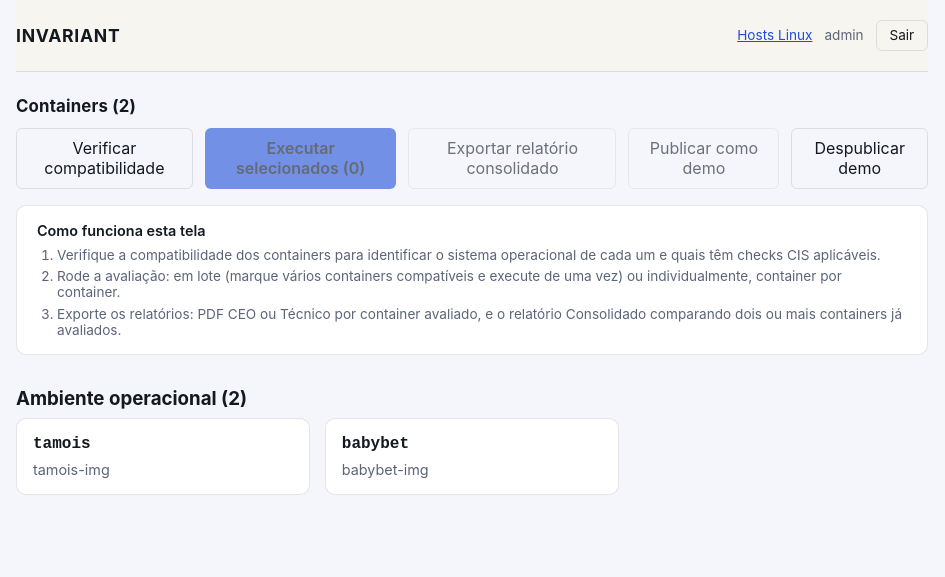
it: Containers -- botão de exportar consolidado › habilita quando o lote executado teve 2 ou mais containers
The image size is (945, 577).
What coordinates should you click on to do the following:
click the button "Verificar compatibilidade"
I would click on:
 (104, 158)
Its box is top-left (16, 128), bottom-right (193, 189).
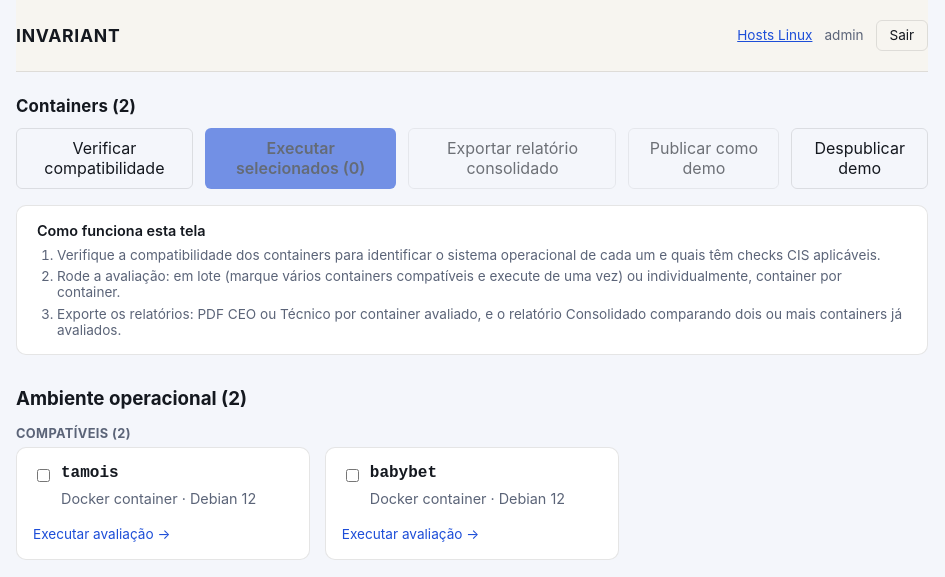
What coordinates should you click on to do the following:
click the checkbox next to "tamois"
I would click on:
 (44, 475)
Its box is top-left (37, 469), bottom-right (50, 482).
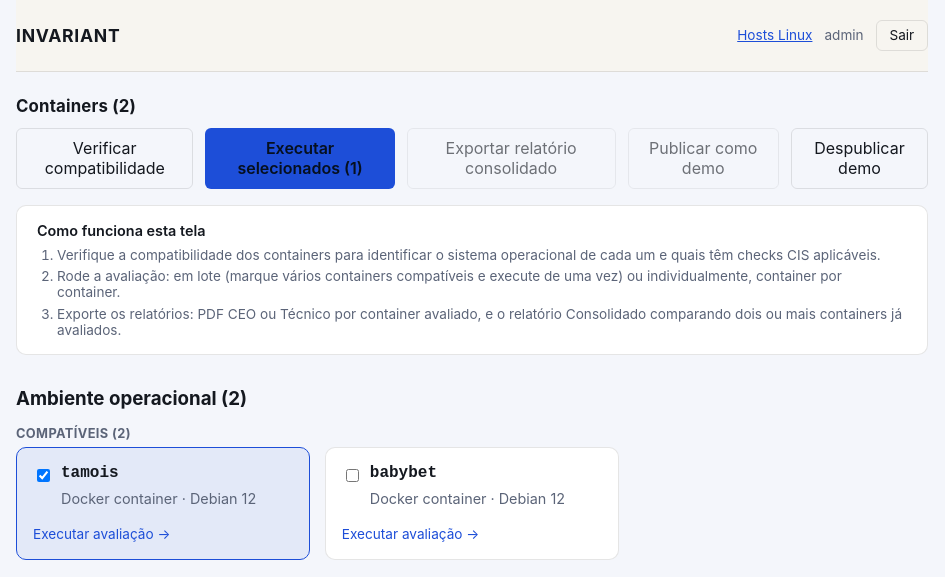
What coordinates should you click on to do the following:
click the checkbox next to "babybet"
I would click on:
 (352, 475)
Its box is top-left (346, 469), bottom-right (359, 482).
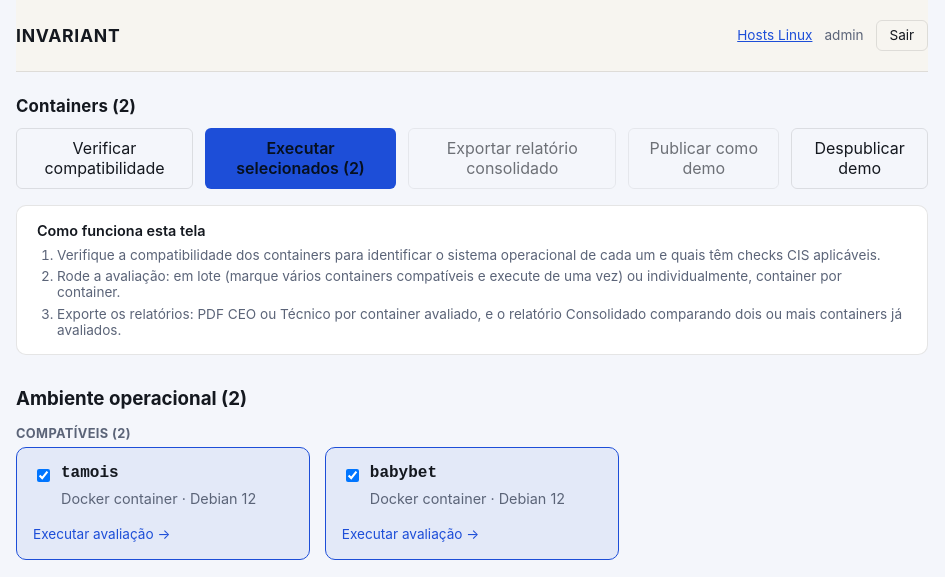
What coordinates should you click on to do the following:
click the button "Executar selecionados (2)"
I would click on:
 (301, 158)
Its box is top-left (205, 128), bottom-right (396, 189).
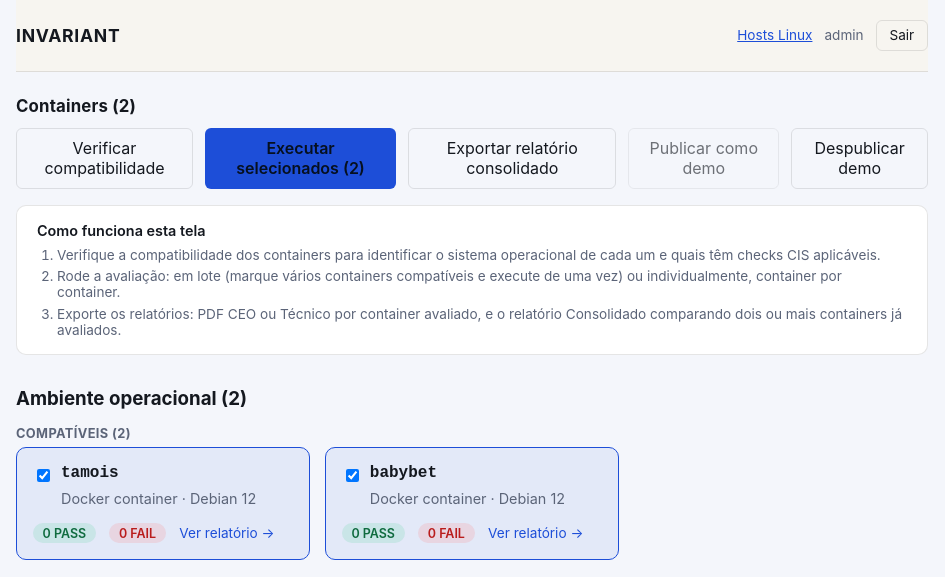
Check: the button "Exportar relatório consolidado" is enabled, box top-left (408, 128), bottom-right (616, 189)
